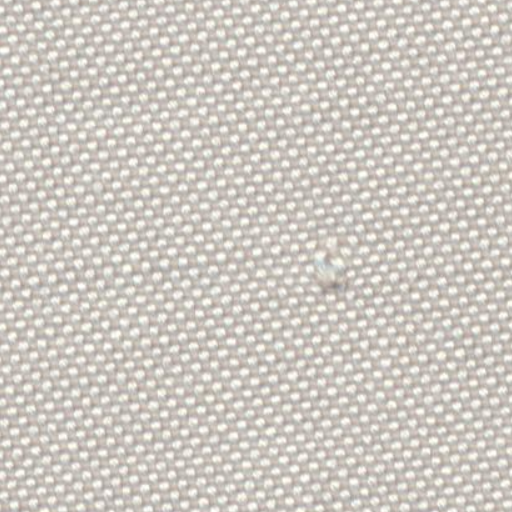PoDong: (284, 226, 392, 322)
